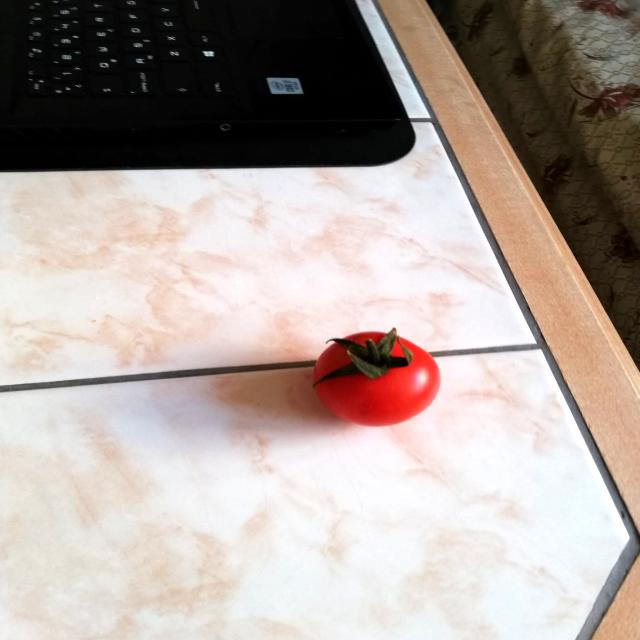tomato: (302, 319, 448, 431)
